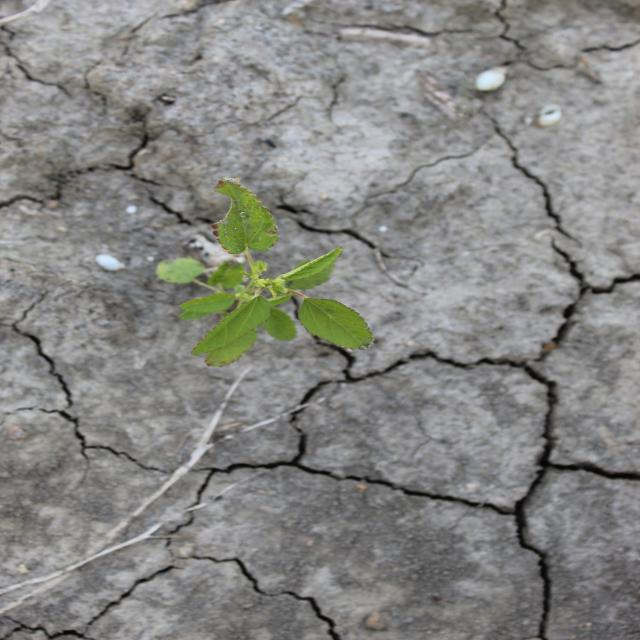PricklySida: (155, 177, 376, 369)
